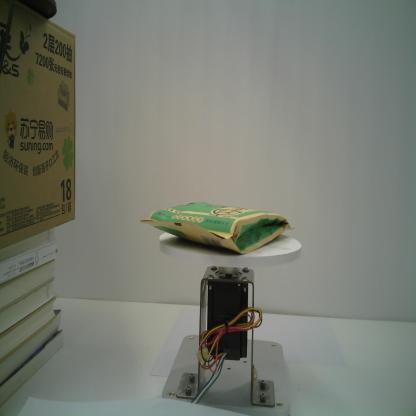Dried Food: (139, 198, 295, 256)
